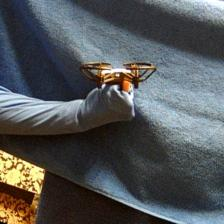drone: (80, 60, 159, 90)
